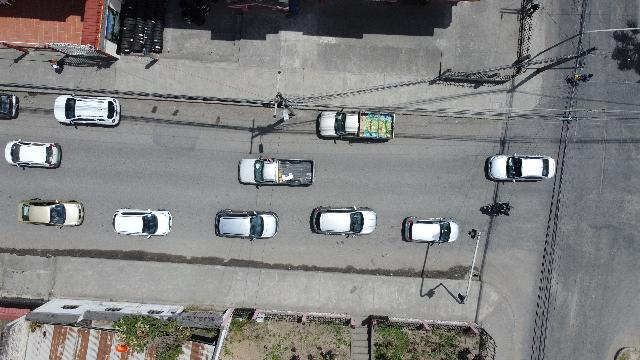Vehiculo: (318, 108, 397, 144), (238, 157, 314, 187), (54, 94, 120, 128), (310, 206, 378, 236), (484, 154, 556, 182), (17, 198, 84, 228), (215, 209, 278, 239), (4, 139, 62, 168), (112, 209, 172, 237), (402, 216, 458, 243), (1, 94, 20, 118)
